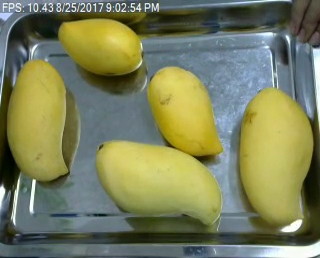Mango: (94, 140, 227, 228), (238, 86, 315, 229), (3, 59, 68, 184), (148, 67, 227, 157), (55, 16, 148, 74)
